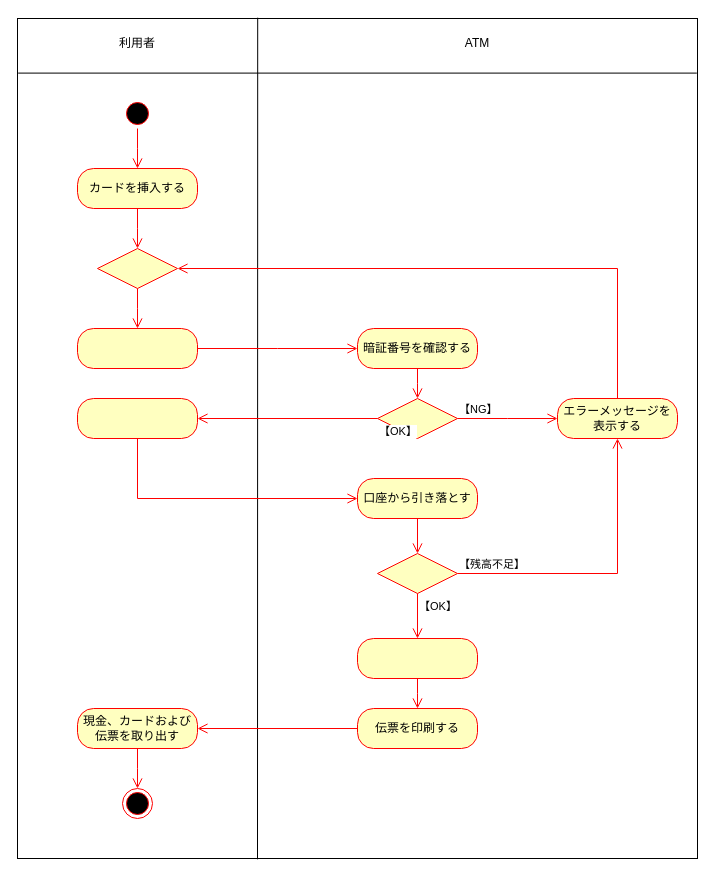
Some shapes in this 716 by 878 pixel diagram are drawn without their labels. The shapes that lost their labels are listed below. From the top down, each one's centre as x and y in pixels, then its label:
At point (137, 348): "暗証番号を入力する".
At point (137, 418): "引き出し金額を 入力する".
At point (417, 658): "現金を用意する".
